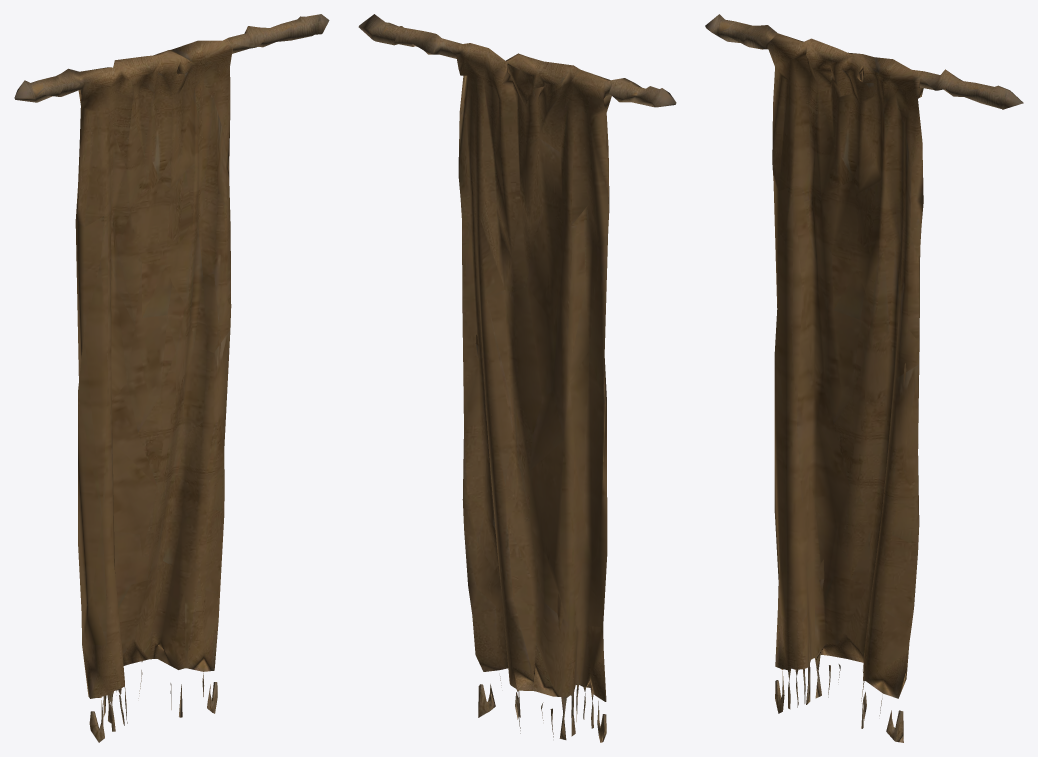
File: banner.glb
3 renders of one model, left to right at view 1: azimuth 30°, elevation 25°; view 2: azimuth 150°, elevation 25°; view 3: azimuth 330°, elevation 25°, orthographic.
Bounding box in the file's own units: 0.9282 × 1.9 × 0.1311.
Materials: 1 (1 with a texture image).
